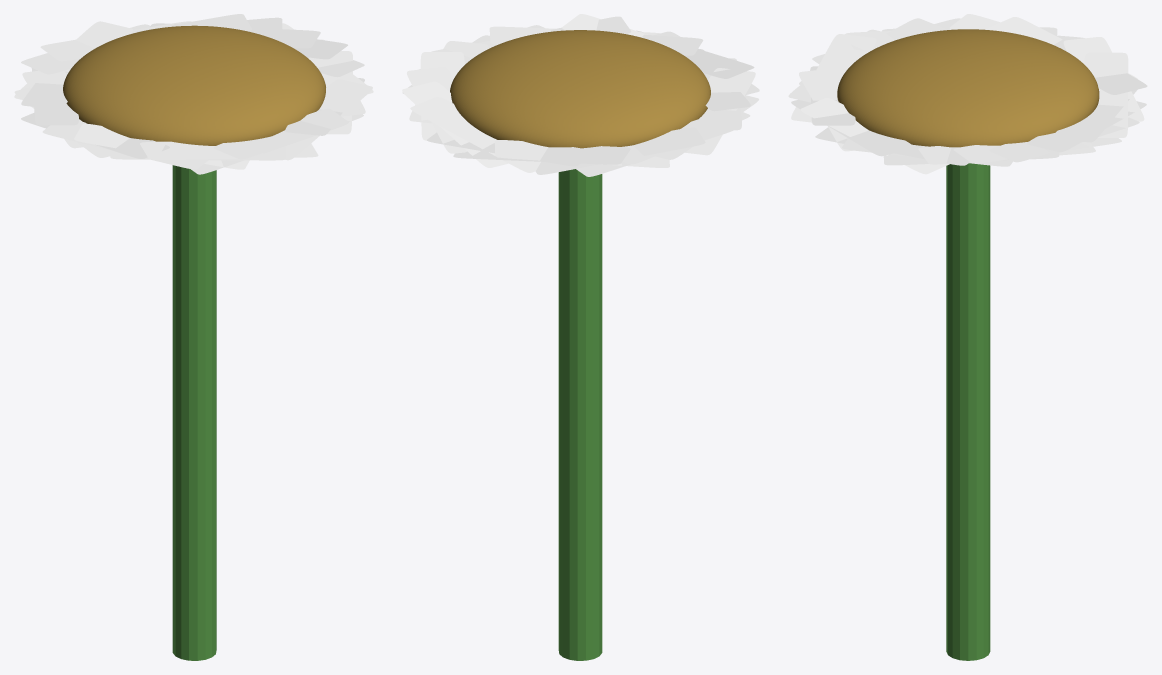
3 views of the same model, side by side, from view 1: azimuth 30°, elevation 25°; view 2: azimuth 150°, elevation 25°; view 3: azimuth 270°, elevation 25° (orthographic).
Visible parts, largest first — view 1: Sphere, Cylinder, Plane.020, Plane.017, Plane.018, Plane.015, Plane.019, Plane.009, Plane.008, Plane.006, Plane.022, Plane.014 (+9 smaller); view 2: Sphere, Cylinder, Plane.005, Plane.009, Plane.008, Plane.006, Plane.013, Plane.004, Plane.010, Plane.017, Plane.007, Plane.003 (+6 smaller); view 3: Sphere, Cylinder, Plane.006, Plane.017, Plane.005, Plane.019, Plane.021, Plane.020, Plane.007, Plane.003, Plane.002, Plane.009 (+8 smaller).
Boxes of the visible parts, box(x1,y1,x2,y2) form: Sphere: box(63, 25, 325, 145); Cylinder: box(172, 165, 216, 660); Plane.020: box(285, 79, 372, 160); Plane.017: box(140, 141, 318, 159); Plane.018: box(191, 108, 348, 174); Plane.015: box(74, 123, 249, 169); Plane.019: box(213, 114, 363, 159); Plane.009: box(21, 71, 68, 109); Plane.008: box(14, 21, 133, 99); Plane.006: box(40, 21, 191, 61); Plane.022: box(309, 51, 352, 134); Plane.014: box(42, 121, 208, 169); Sphere: box(450, 30, 710, 148); Cylinder: box(558, 169, 602, 660); Plane.005: box(410, 97, 540, 172); Plane.009: box(535, 127, 705, 174); Plane.008: box(494, 140, 669, 167); Plane.006: box(427, 132, 595, 166); Plane.013: box(685, 68, 755, 155); Plane.004: box(402, 81, 508, 167); Plane.010: box(576, 115, 735, 176); Plane.017: box(636, 30, 754, 78); Plane.007: box(453, 146, 630, 164); Plane.003: box(407, 67, 466, 153); Sphere: box(837, 29, 1099, 147); Cylinder: box(946, 163, 990, 660); Plane.006: box(1084, 52, 1128, 137); Plane.017: box(791, 34, 876, 122); Plane.005: box(1053, 89, 1137, 142); Plane.019: box(799, 68, 852, 151); Plane.021: box(800, 98, 949, 174); Plane.020: box(791, 99, 913, 156); Plane.007: box(1063, 37, 1144, 121); Plane.003: box(989, 117, 1139, 162); Plane.002: box(953, 138, 1121, 163); Plane.009: box(988, 17, 1137, 79).
Size of the model in its own units: 0.8192 by 1.49 by 0.8187.
